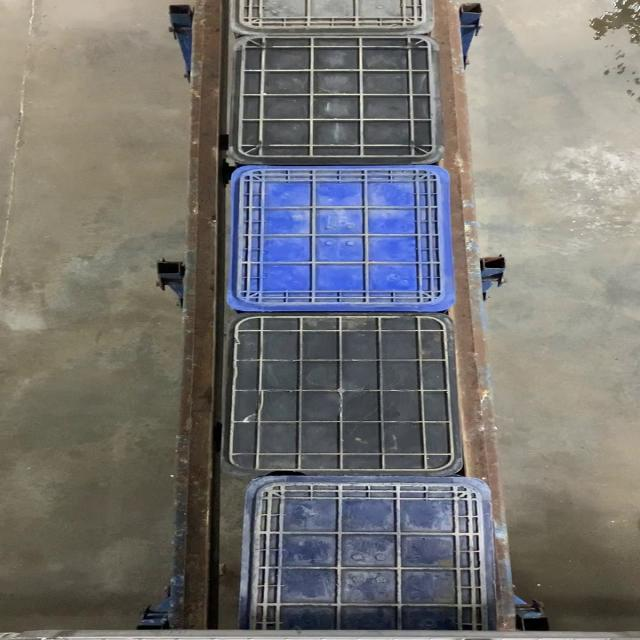Box: (224, 167, 455, 311), (224, 35, 444, 167)
Damaged_box: (223, 314, 462, 478)
